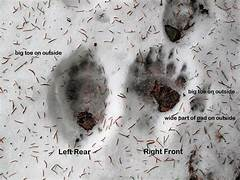bear: (119, 41, 192, 123)
